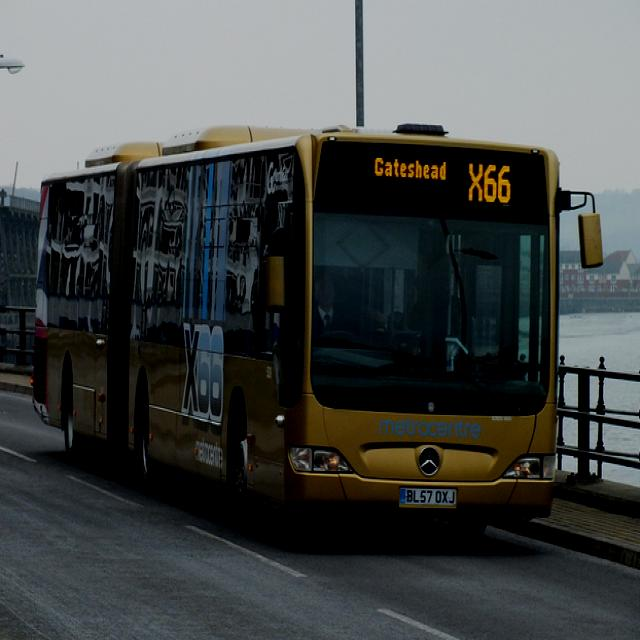Vehicle: (32, 122, 602, 540)
